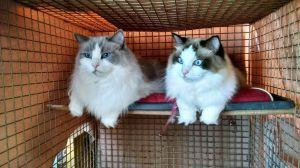ragdoll: (71, 25, 131, 83)
